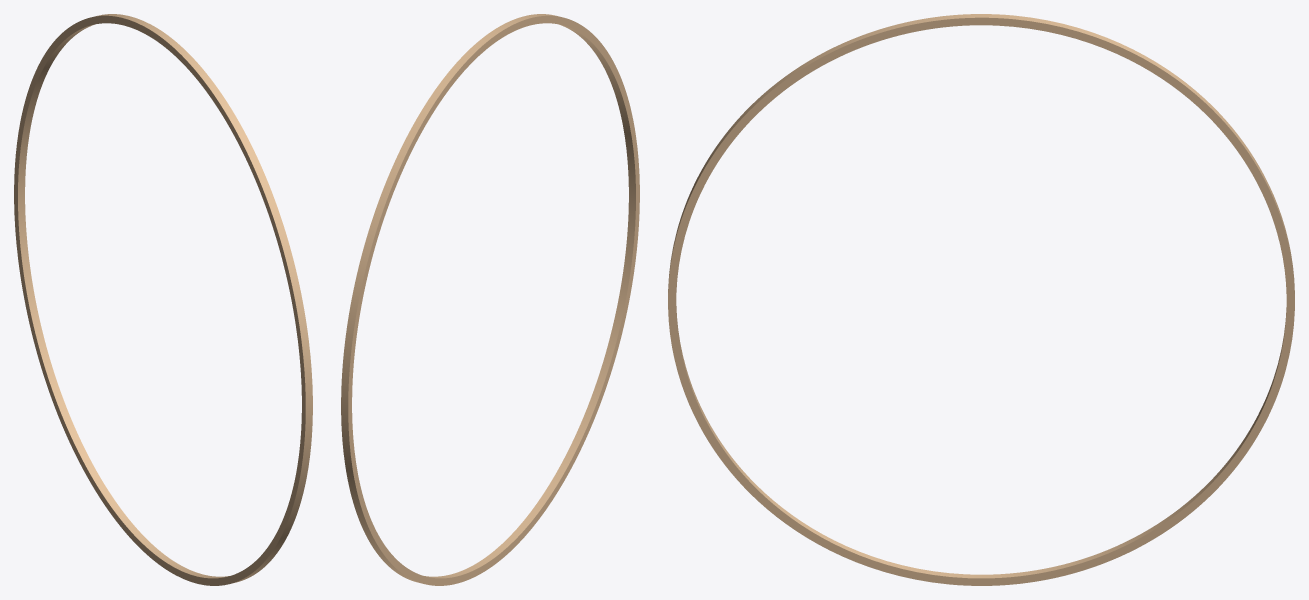
Rendered from bypass-throat-lip.glb.
The picture shows the model from 3 angles, left to right: view 1: azimuth 30°, elevation 25°; view 2: azimuth 150°, elevation 25°; view 3: azimuth 270°, elevation 25°; orthographic projection. The views are drawn at different scales.
Parts seen in each view (by area): view 1: bypass-throat-lip - bronze; view 2: bypass-throat-lip - bronze; view 3: bypass-throat-lip - bronze.
Part boxes in pixels (x1=…): bypass-throat-lip - bronze: x1=14, y1=14, x2=312, y2=585; bypass-throat-lip - bronze: x1=341, y1=14, x2=639, y2=585; bypass-throat-lip - bronze: x1=668, y1=14, x2=1294, y2=585.
Bounding box in the file's own units: 0.032 × 2.26 × 2.26.
